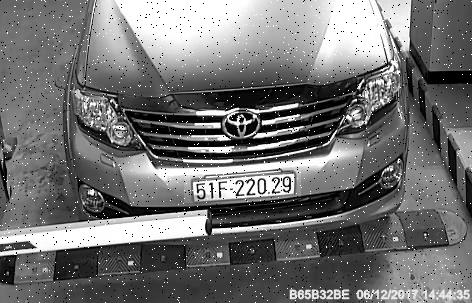License-plate: (185, 170, 302, 204)
